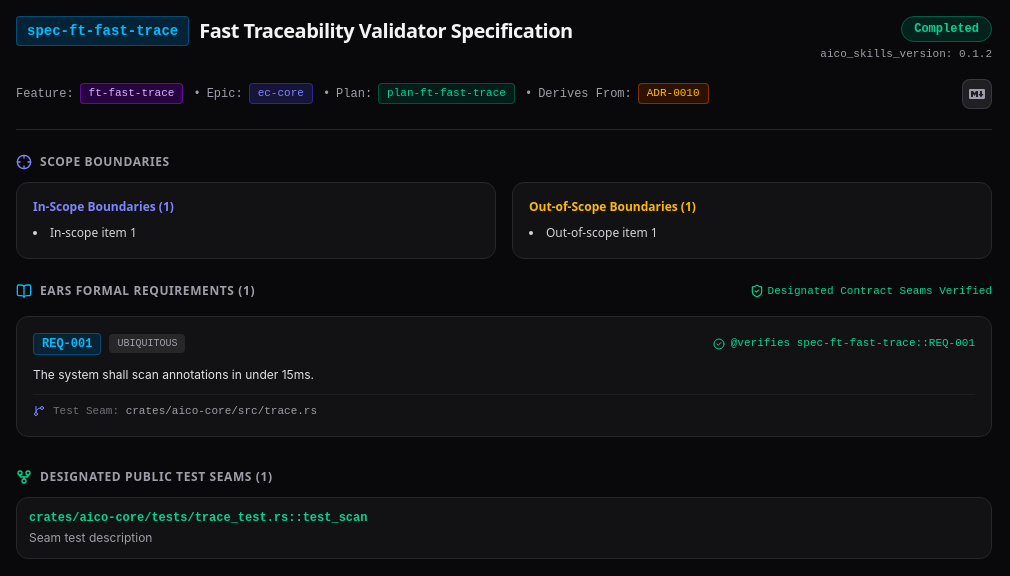
Scenario: SpecViewer Component › toggles between structured view and raw markdown when clicking markdown icon button
The width and height of the screenshot is (1010, 576).
Expected: the heading "Fast Traceability Validator Specification" is shown, [199, 17, 573, 45]
Expected: the text "Scope Boundaries" is shown, [40, 154, 170, 170]
Click the button with test id "toggle-raw-markdown".
click(977, 94)  # box [962, 78, 992, 108]
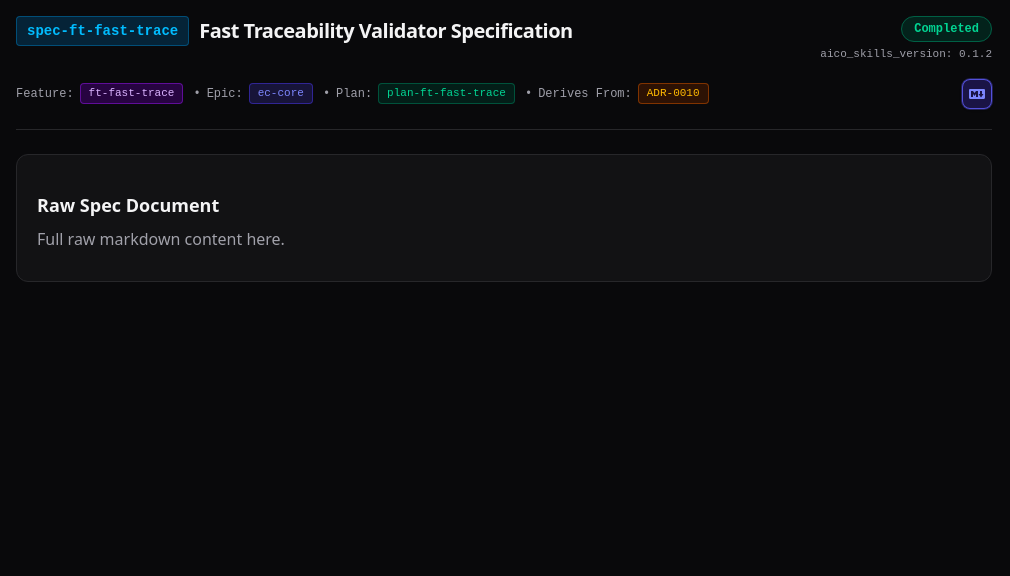
Result: the text "Full raw markdown content here." is shown at [37, 228, 285, 250]
Result: the text "Scope Boundaries" is gone
Note: Click again to toggle back
Click the button with test id "toggle-raw-markdown".
click(977, 94)  # box [962, 78, 992, 108]
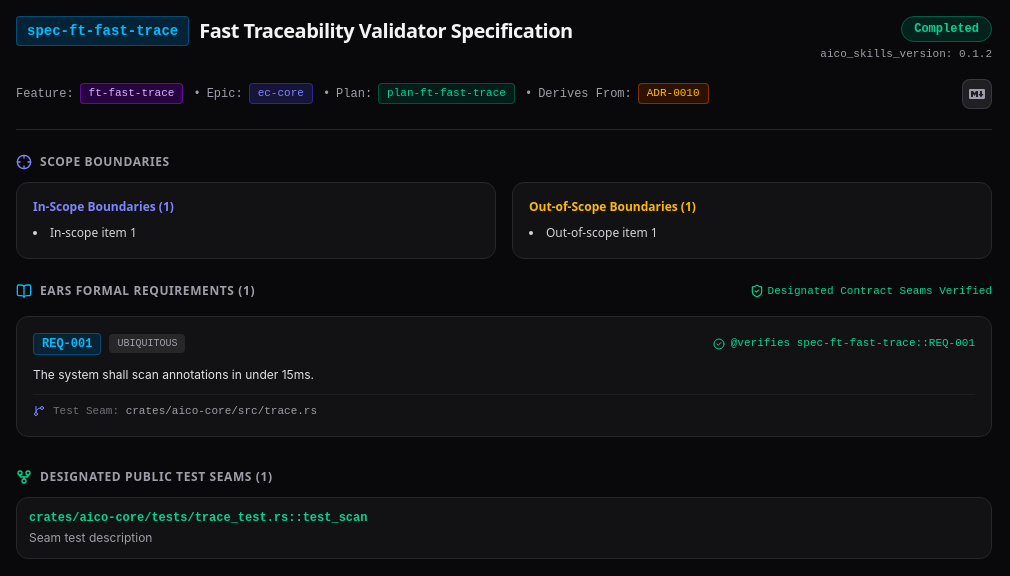
Result: the text "Scope Boundaries" is shown at [40, 154, 170, 170]
